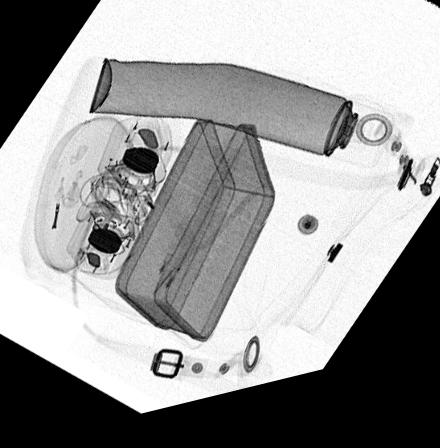Sprayer: (88, 63, 393, 186)
